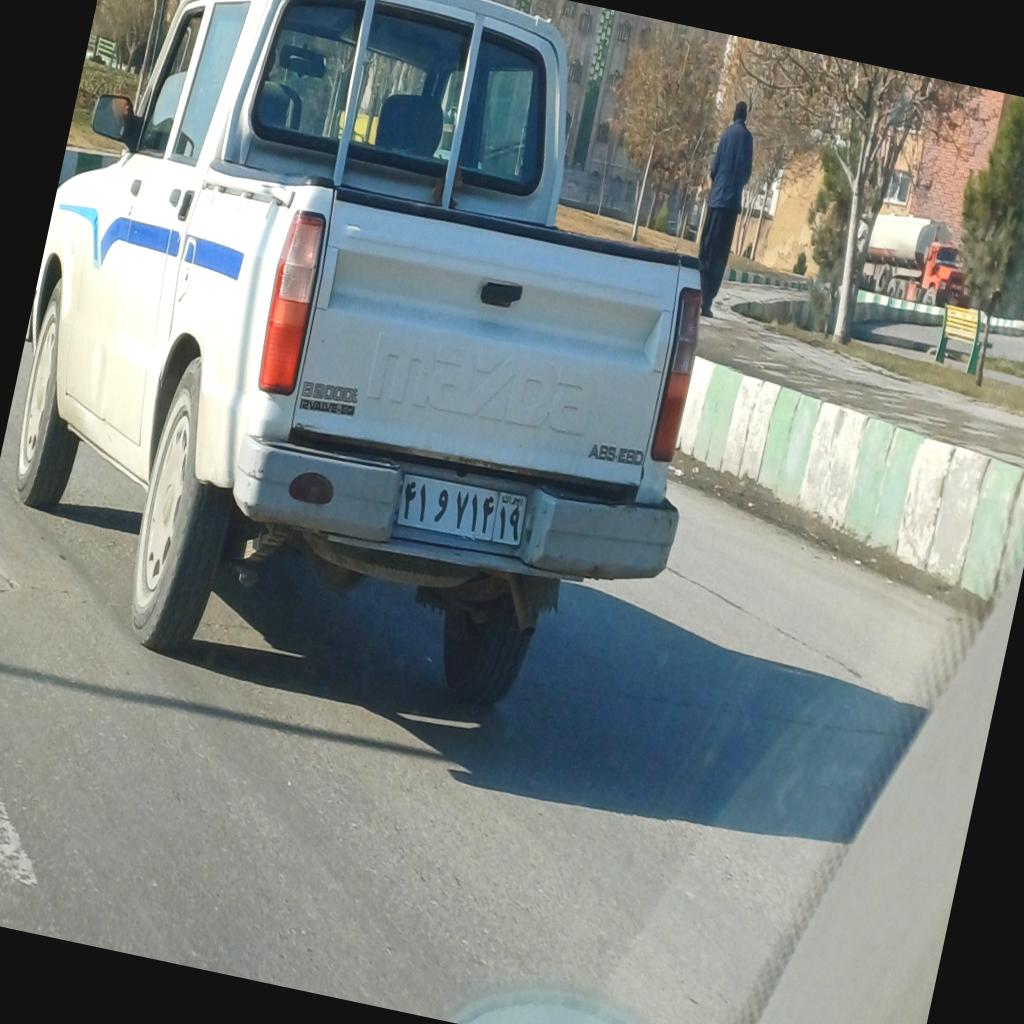Plates: (380, 464, 530, 558)
